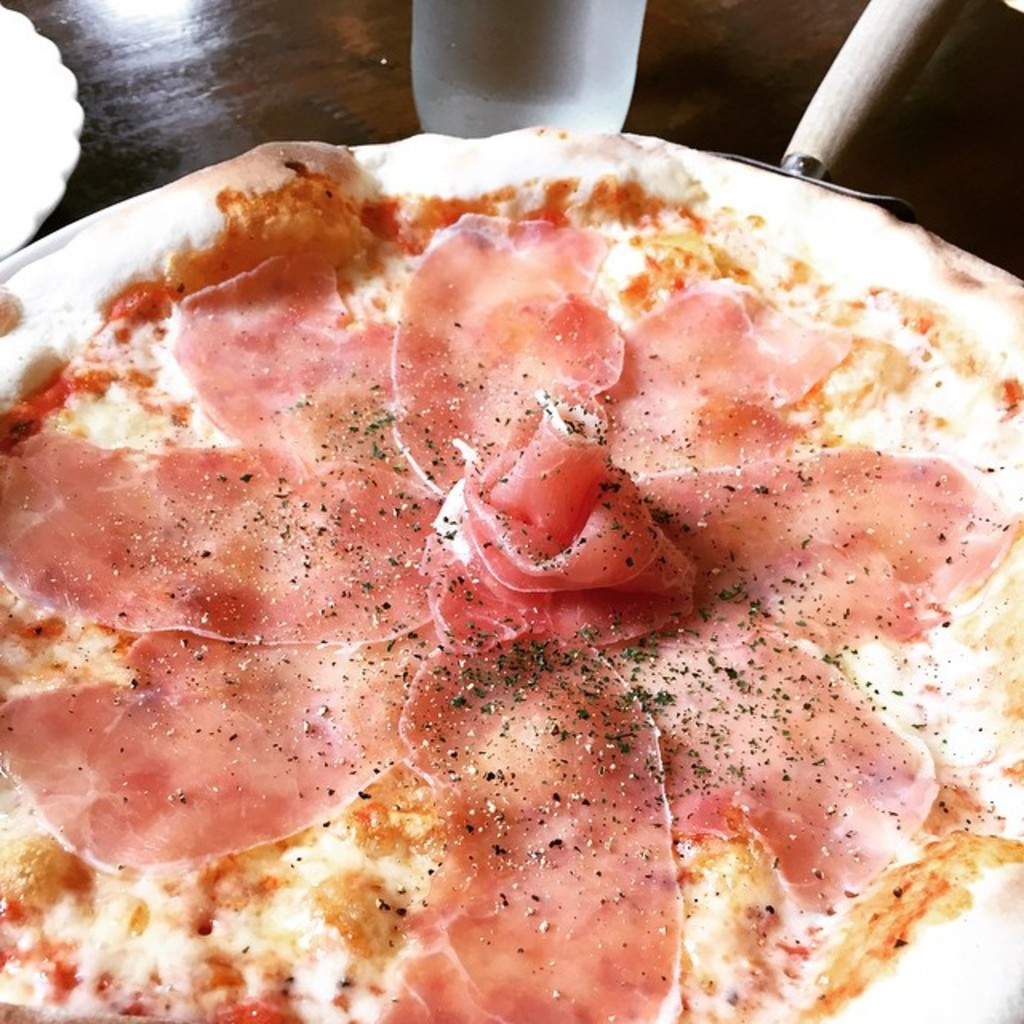Pizza: (0, 96, 1016, 1016)
